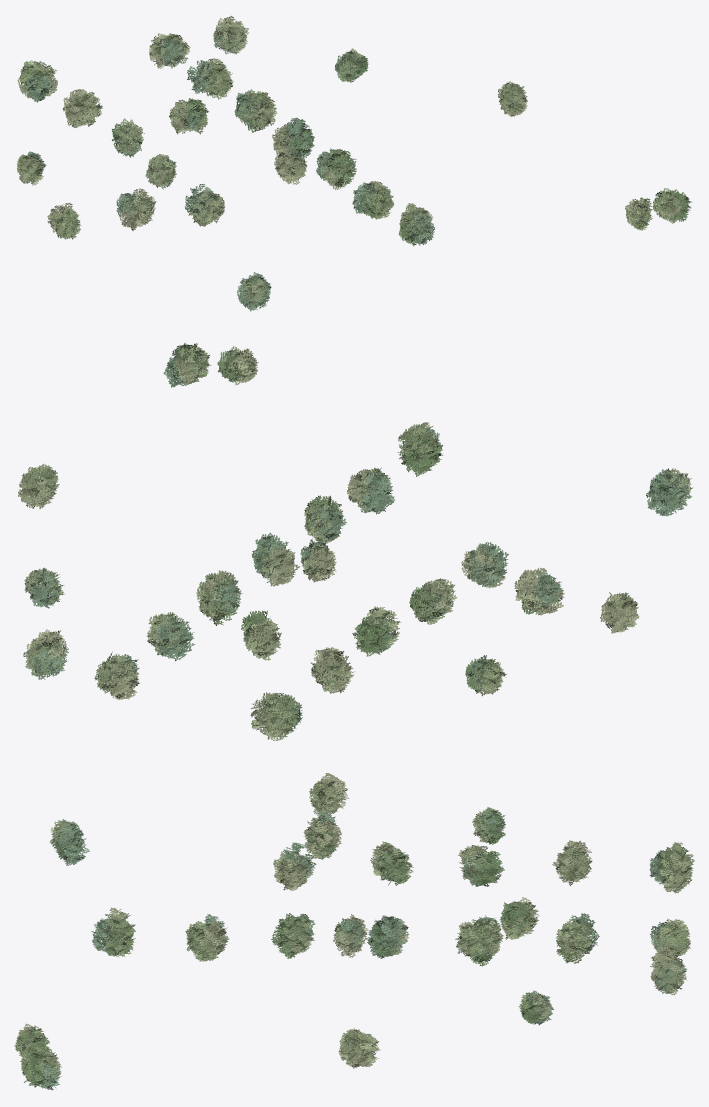
File: campus-tree-3_-3-near.glb
3 views of the same model, one above another, from view 1: azimuth 30°, elevation 25°; view 2: azimuth 150°, elevation 25°; view 3: azimuth 270°, elevation 25° (orthographic). The views are drawn at different scales.
Parts seen in each view (by area): view 1: Campus leaf canopy; view 2: Campus leaf canopy; view 3: Campus leaf canopy.
Part boxes in pixels (bbox=[...]): Campus leaf canopy: bbox=[17, 16, 691, 311]; Campus leaf canopy: bbox=[18, 342, 692, 740]; Campus leaf canopy: bbox=[14, 773, 694, 1090].
Size of the model in its own units: 80.55 by 7.6 by 82.13.
Materials: 1 (1 with a texture image).
